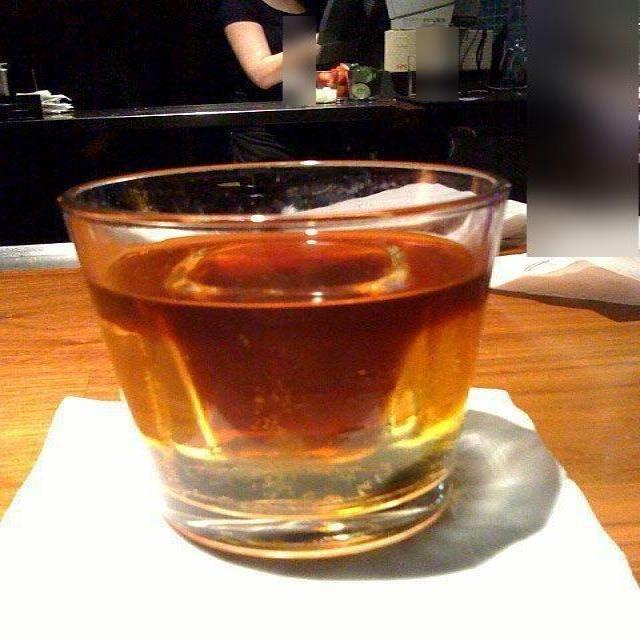glass-normal: (58, 158, 510, 567)
